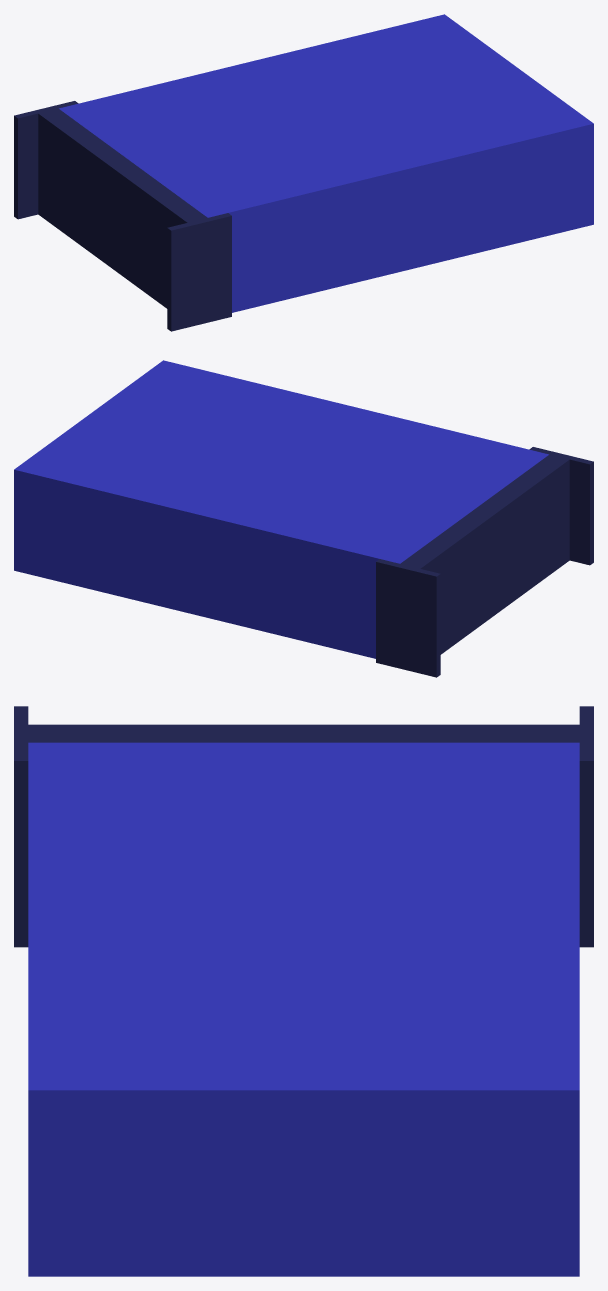
Rendered from block.glb.
3 views of the same model, one above another, from view 1: azimuth 30°, elevation 25°; view 2: azimuth 150°, elevation 25°; view 3: azimuth 270°, elevation 25° (orthographic). The views are drawn at different scales.
Parts seen in each view (by area): view 1: Cube, Cube.001; view 2: Cube, Cube.001; view 3: Cube, Cube.001.
Part boxes in pixels (x1,y1,x2,y2): Cube: (59,14,593,312); Cube.001: (14,101,231,331); Cube: (14,360,548,658); Cube.001: (376,447,593,677); Cube: (28,742,579,1276); Cube.001: (14,706,593,947).
Bounding box in the file's own units: 0.21 × 0.0475 × 0.134.
